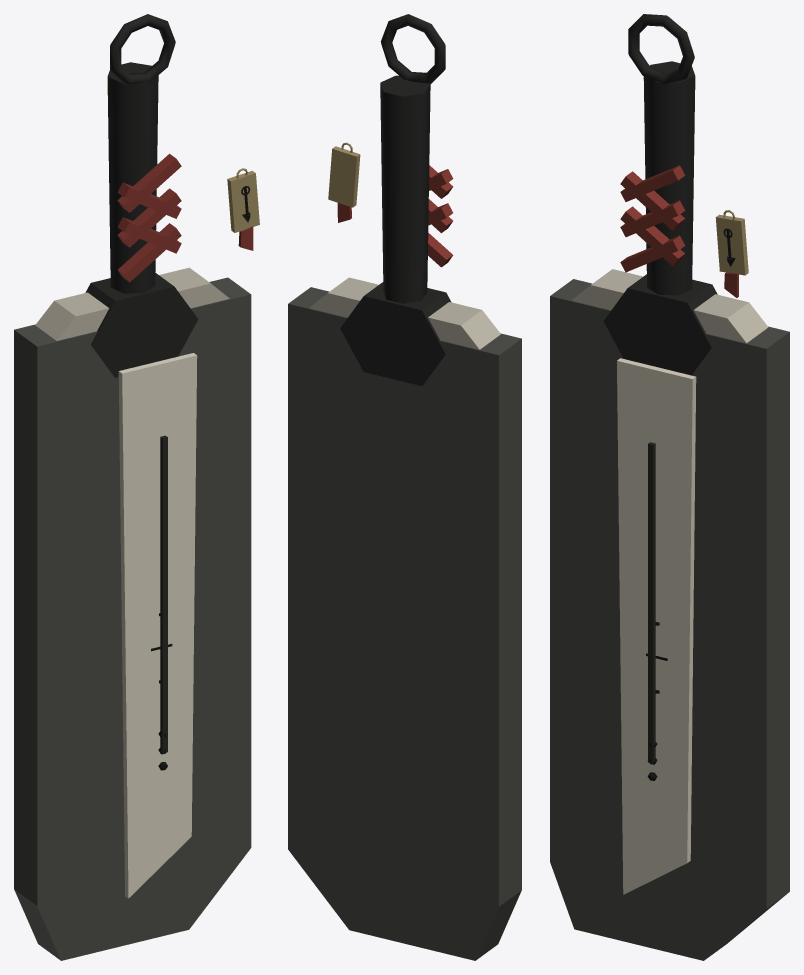
The model's file is fantasy-faceted-slab-claymore-v1.glb.
3 renders of one model, left to right at view 1: azimuth 30°, elevation 25°; view 2: azimuth 150°, elevation 25°; view 3: azimuth 330°, elevation 25°, orthographic. The views are drawn at different scales.
Visible parts, largest first — view 1: Slab Claymore; view 2: Slab Claymore; view 3: Slab Claymore.
Boxes of the visible parts, left/top/right/bottom form: Slab Claymore: left=14, top=14, right=259, bottom=960; Slab Claymore: left=288, top=14, right=521, bottom=960; Slab Claymore: left=550, top=14, right=789, bottom=960.
Bounding box in the file's own units: 1.6 × 6.6 × 0.5569.
